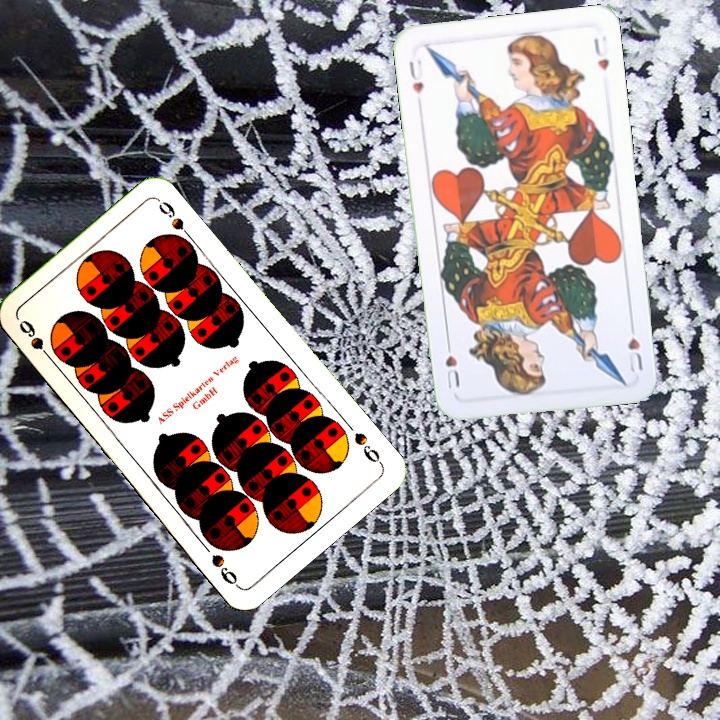HU: (623, 317, 645, 376), (405, 55, 426, 97)
S9: (14, 315, 57, 366), (350, 428, 386, 468)
